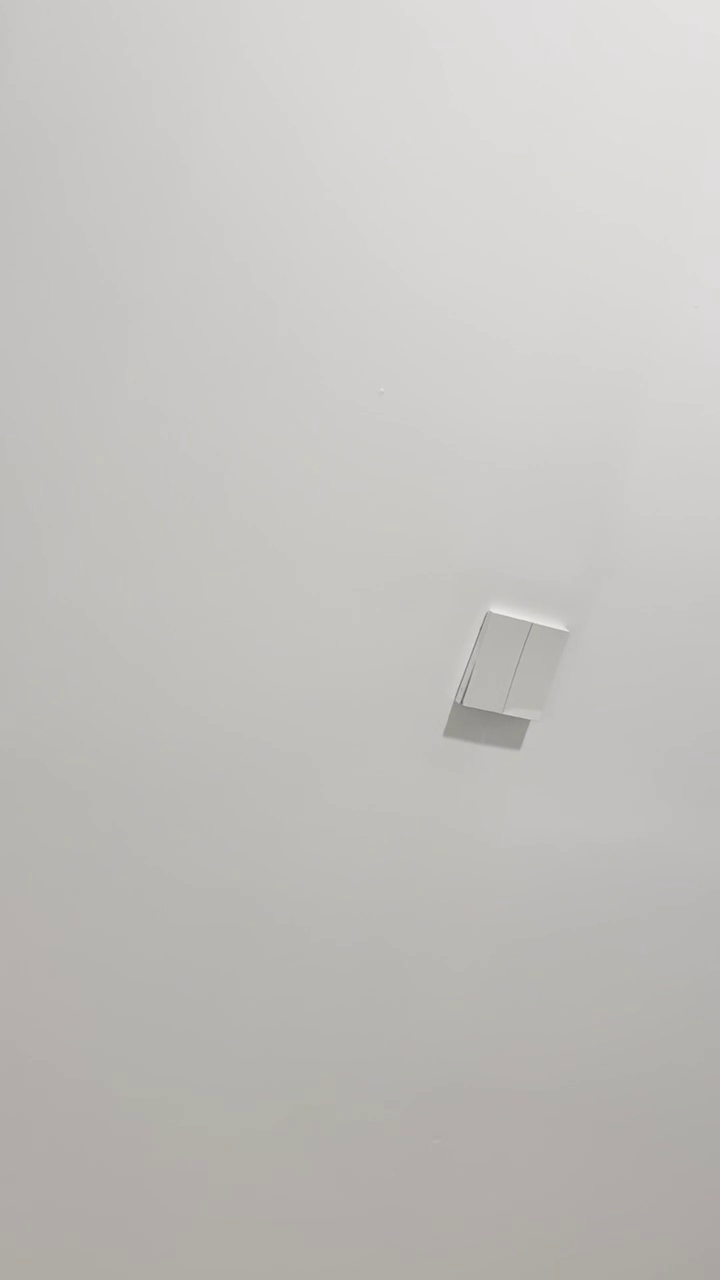button: (449, 604, 572, 724)
